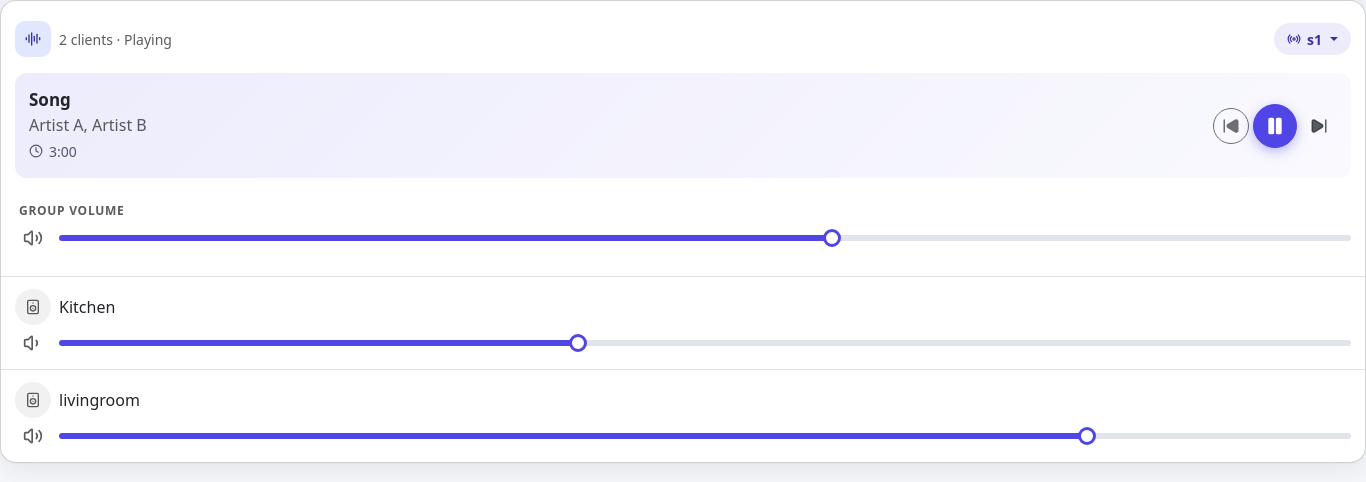
Test: Group › follows client volume changes
This screenshot has width=1366, height=482.
Set the slider named "Kitchen volume" to "0". click: (67, 343)
box: [59,331,1351,355]
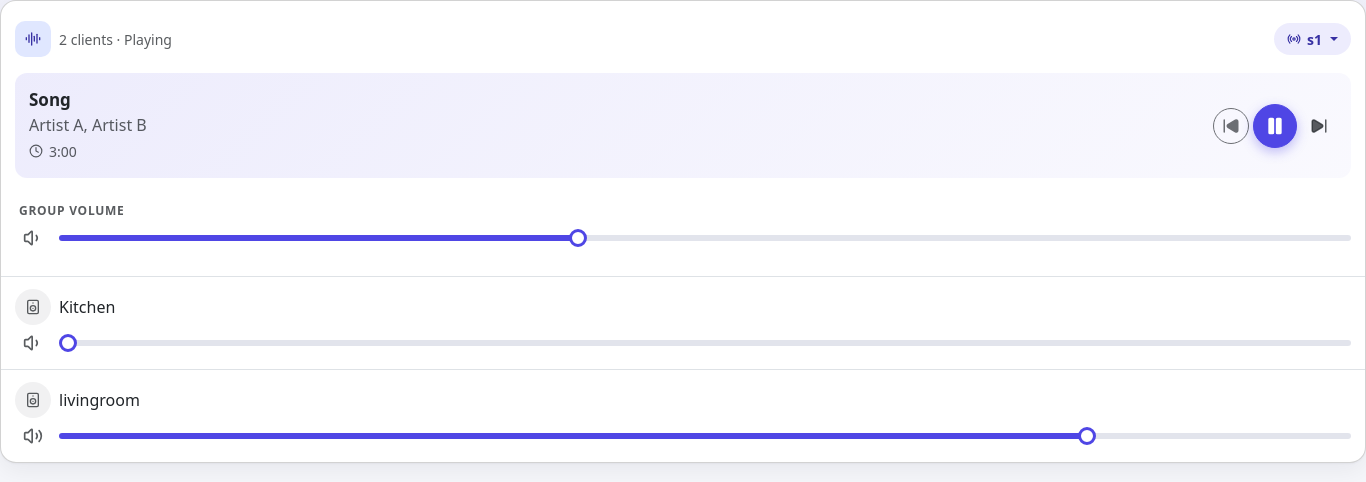
Result: the slider named "group volume" holds "40" at [59,226,1351,250]
